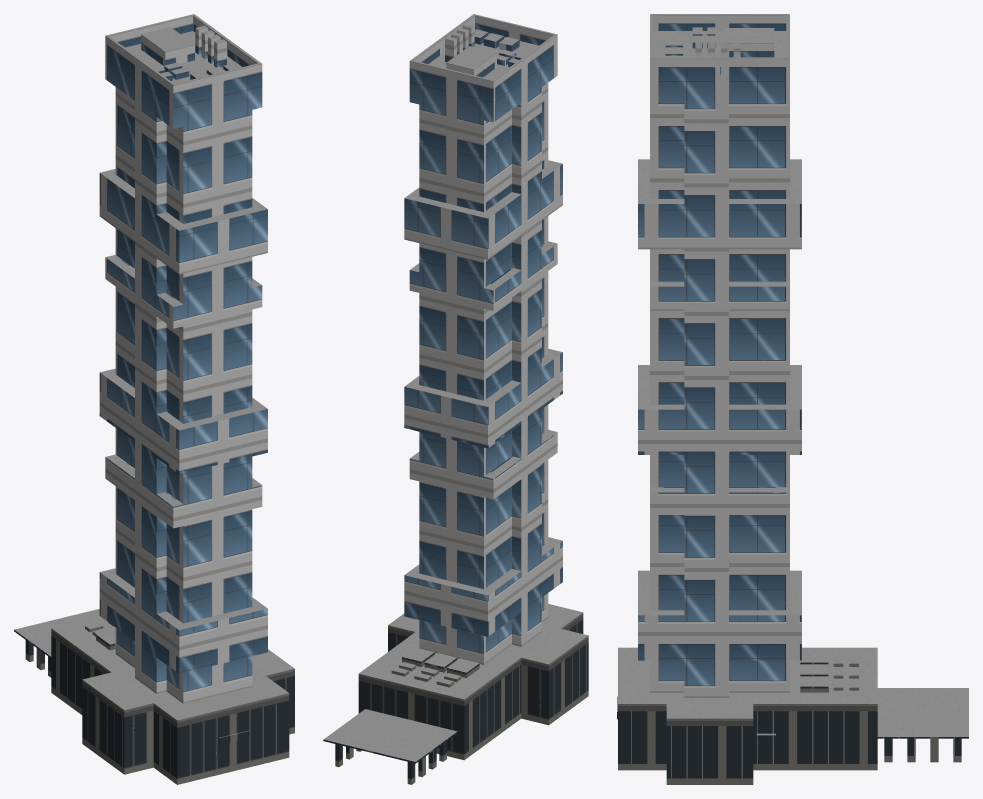
The model's file is Immeuble_5.obj.
3 renders of one model, left to right at view 1: azimuth 30°, elevation 25°; view 2: azimuth 150°, elevation 25°; view 3: azimuth 270°, elevation 25°, orthographic. The views are drawn at different scales.
Parts seen in each view (by area): view 1: Immeuble; view 2: Immeuble; view 3: Immeuble.
Part boxes in pixels (bbox=[...]): Immeuble: bbox=[14, 14, 294, 784]; Immeuble: bbox=[323, 14, 588, 784]; Immeuble: bbox=[617, 14, 968, 784].
Size of the model in its own units: 9.17 by 35.71 by 15.92.
3 materials, 3 textured.
